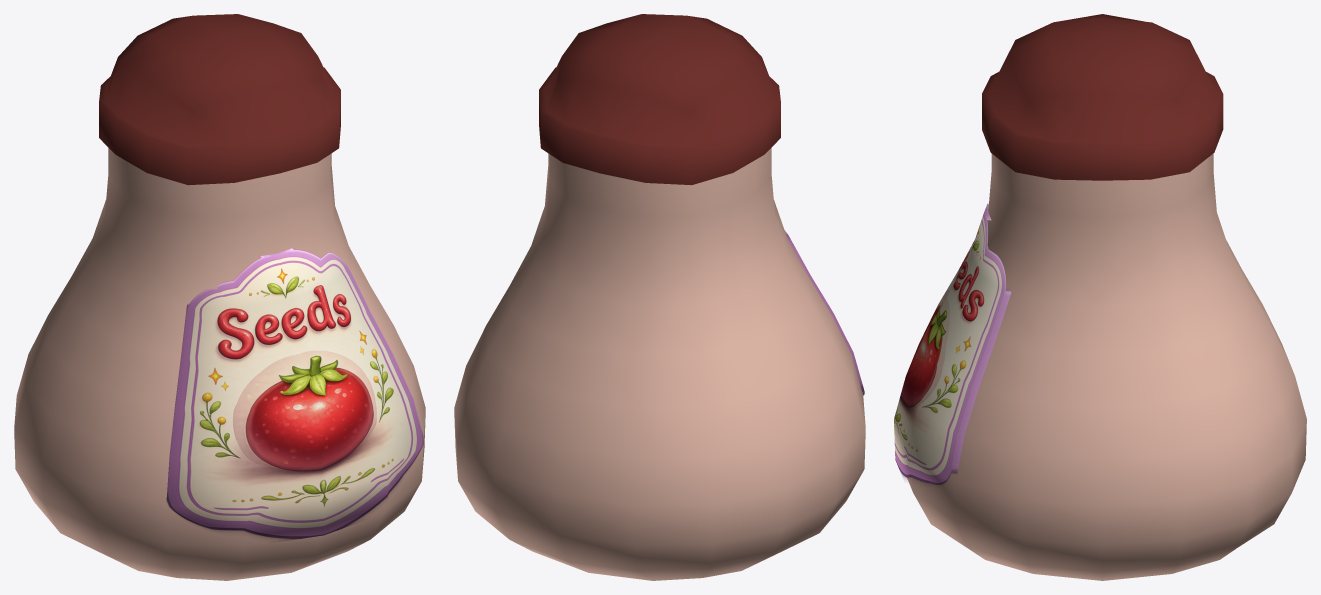
Rendered from seed_tomato.glb.
The picture shows the model from 3 angles, left to right: view 1: azimuth 30°, elevation 25°; view 2: azimuth 150°, elevation 25°; view 3: azimuth 270°, elevation 25°; orthographic projection.
Parts seen in each view (by area): view 1: seed_tomato; view 2: seed_tomato; view 3: seed_tomato.
Boxes of the visible parts, x1,y1,x2,y2 form: seed_tomato: [14, 14, 425, 580]; seed_tomato: [454, 14, 865, 580]; seed_tomato: [894, 14, 1306, 580].
Size of what is drawn, in the model's own units: 0.3161 by 0.4348 by 0.3193.
3 materials, 1 textured.
